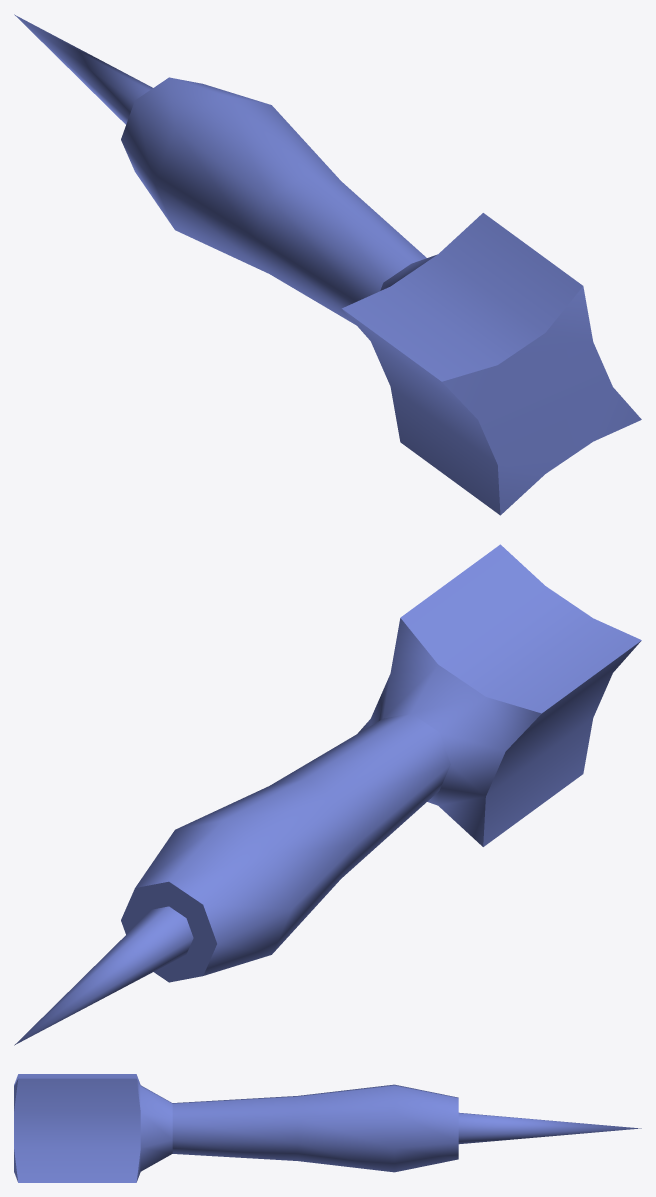
The model's file is dardos.fbx.
The picture shows the model from 3 angles, top to bottom: view 1: azimuth 30°, elevation 25°; view 2: azimuth 150°, elevation 25°; view 3: azimuth 270°, elevation 25°; orthographic projection. The views are drawn at different scales.
Parts seen in each view (by area): view 1: dardo; view 2: dardo; view 3: dardo.
Boxes of the visible parts, left/top/right/bottom form: dardo: left=14, top=14, right=641, bottom=515; dardo: left=14, top=544, right=641, bottom=1045; dardo: left=14, top=1074, right=641, bottom=1182.
Bounding box in the file's own units: 0.0588 × 0.0588 × 0.2703.
